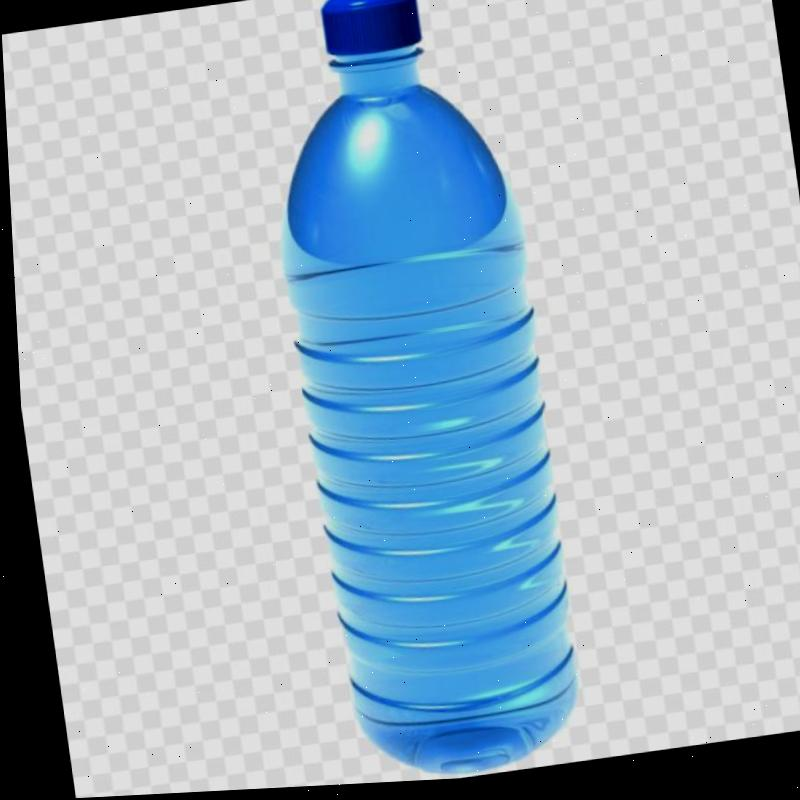botella: (247, 0, 592, 790)
